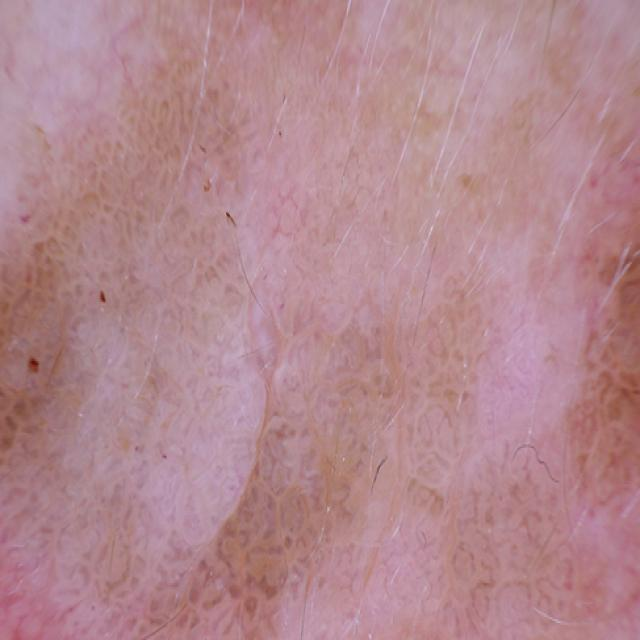Keratosis: (0, 232, 175, 488), (278, 372, 491, 577), (543, 306, 640, 494), (587, 162, 640, 291)
